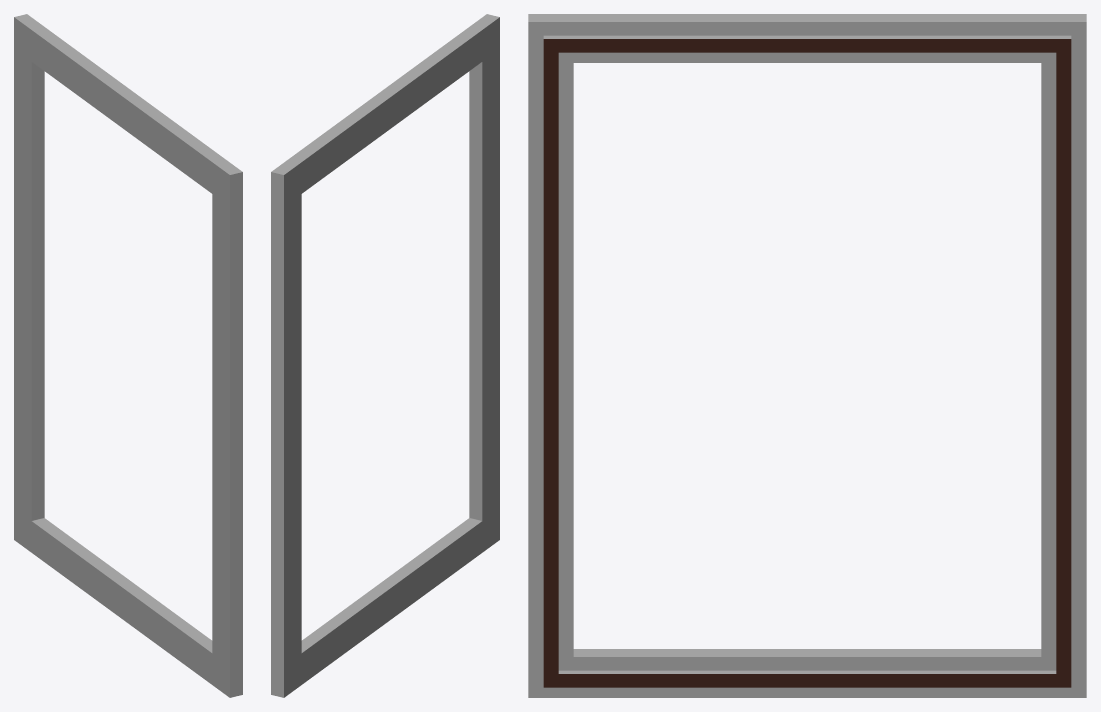
File: window_frozen.obj
3 views of the same model, side by side, from view 1: azimuth 30°, elevation 25°; view 2: azimuth 150°, elevation 25°; view 3: azimuth 270°, elevation 25° (orthographic). The views are drawn at different scales.
Parts seen in each view (by area): view 1: Box001; view 2: Box001; view 3: Box001.
Boxes of the visible parts, x1=… form: Box001: x1=14, y1=14, x2=242, y2=697; Box001: x1=271, y1=14, x2=499, y2=697; Box001: x1=528, y1=14, x2=1086, y2=697.
Size of the model in its own units: 0.072 by 2 by 1.5.
